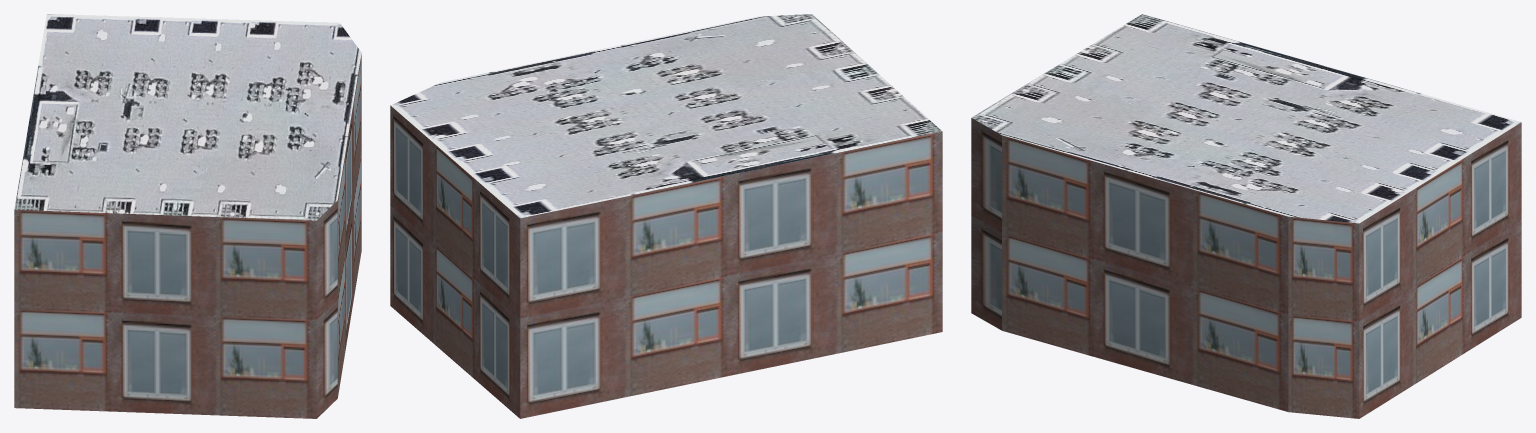
File: ResTex__4994.fbx
3 renders of one model, left to right at view 1: azimuth 30°, elevation 25°; view 2: azimuth 150°, elevation 25°; view 3: azimuth 270°, elevation 25°, orthographic. The views are drawn at different scales.
Parts seen in each view (by area): view 1: CityEngineMaterial_19_m, CityEngineMaterial_15_m; view 2: CityEngineMaterial_19_m, CityEngineMaterial_15_m; view 3: CityEngineMaterial_19_m, CityEngineMaterial_15_m.
Part boxes in pixels (box(x1,y1,x2,y2)): CityEngineMaterial_19_m: box(14, 54, 361, 418); CityEngineMaterial_15_m: box(14, 14, 361, 220); CityEngineMaterial_19_m: box(390, 105, 942, 418); CityEngineMaterial_15_m: box(391, 14, 941, 218); CityEngineMaterial_19_m: box(971, 118, 1521, 418); CityEngineMaterial_15_m: box(971, 14, 1521, 223).
Size of the model in its own units: 13.79 by 6 by 15.31.
2 materials, 2 textured.
